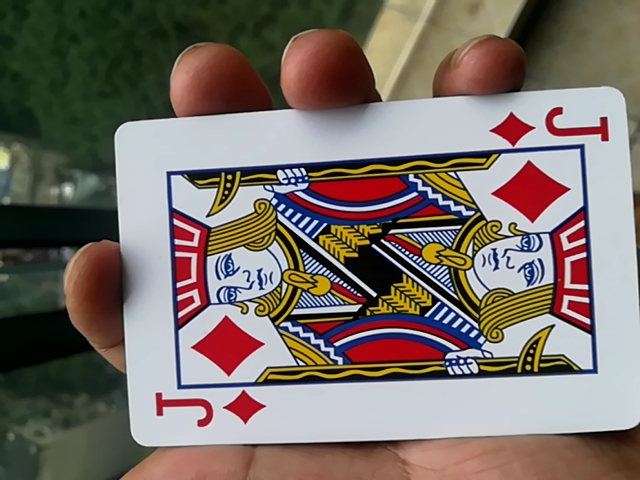fk j: (101, 109, 636, 462)
